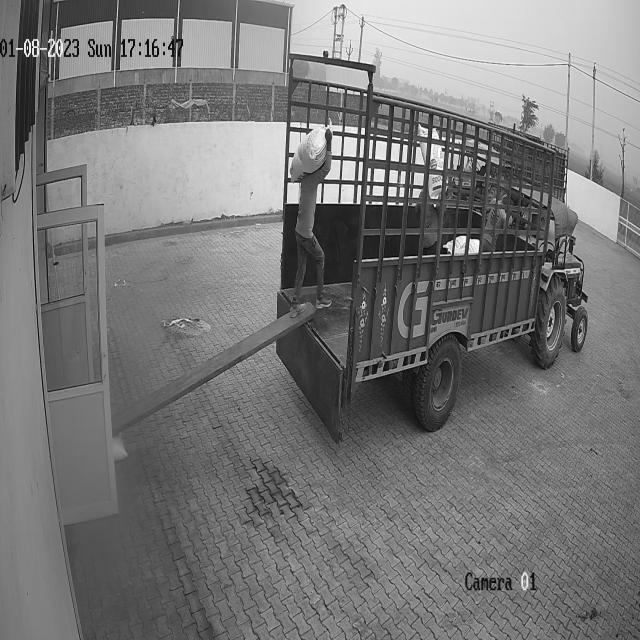sack: (290, 127, 327, 182)
